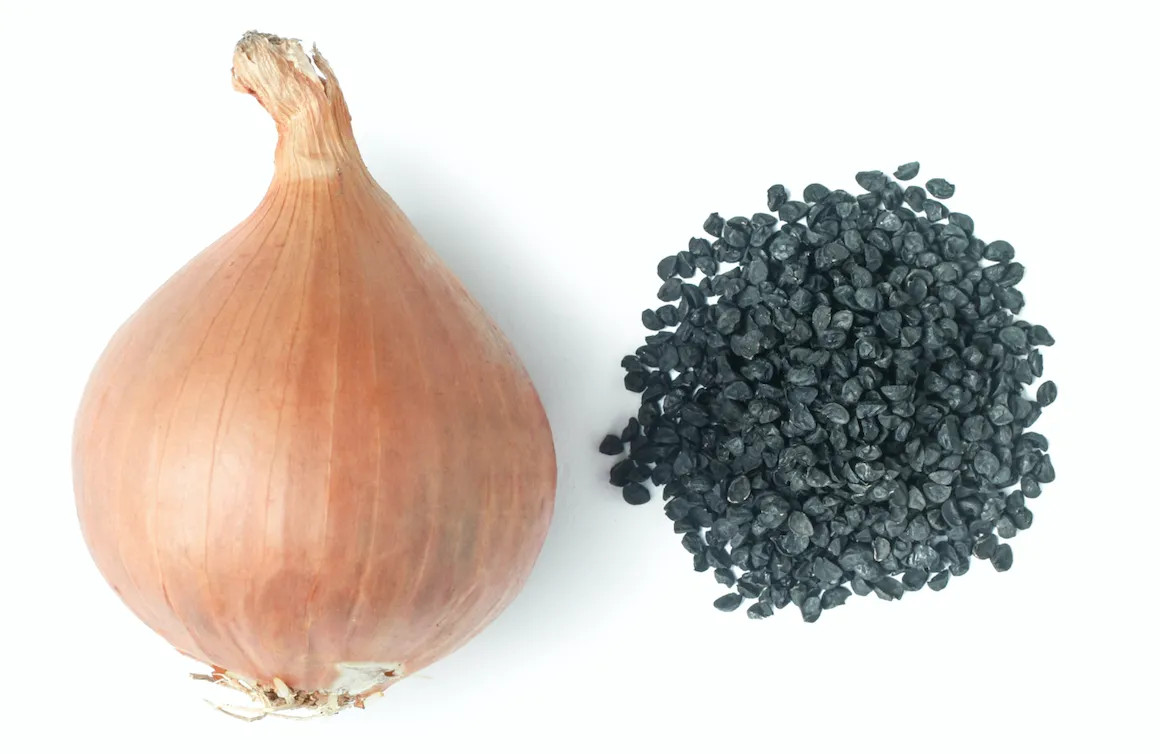onion: (67, 28, 561, 716)
